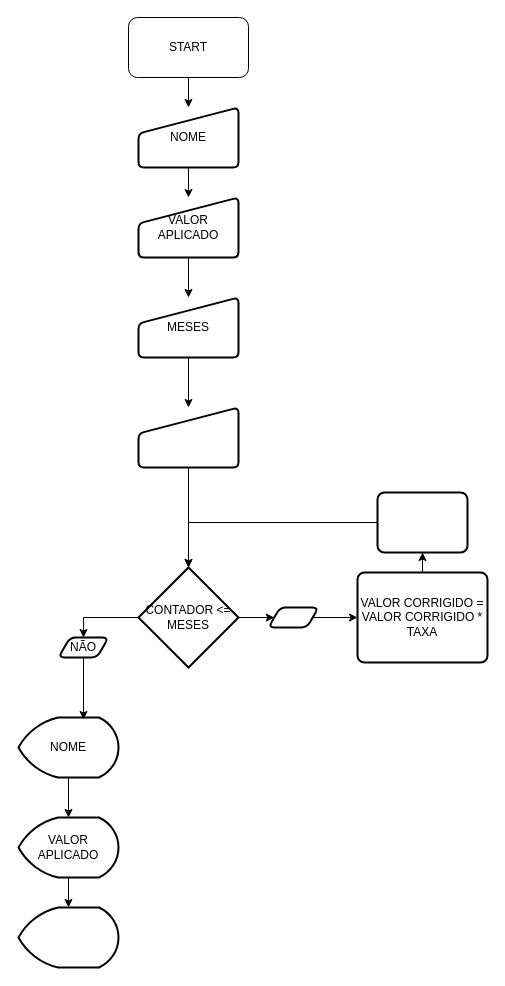
Some shapes in this 505 by 986 pixel diagram are drawn without their labels. Each missing label, with the centre of its shape:
INCREMENTA CONTADOR: (422,522)
SIM: (293,617)
TAXA: (188,437)
VALOR CORRIGIDO: (68,937)
